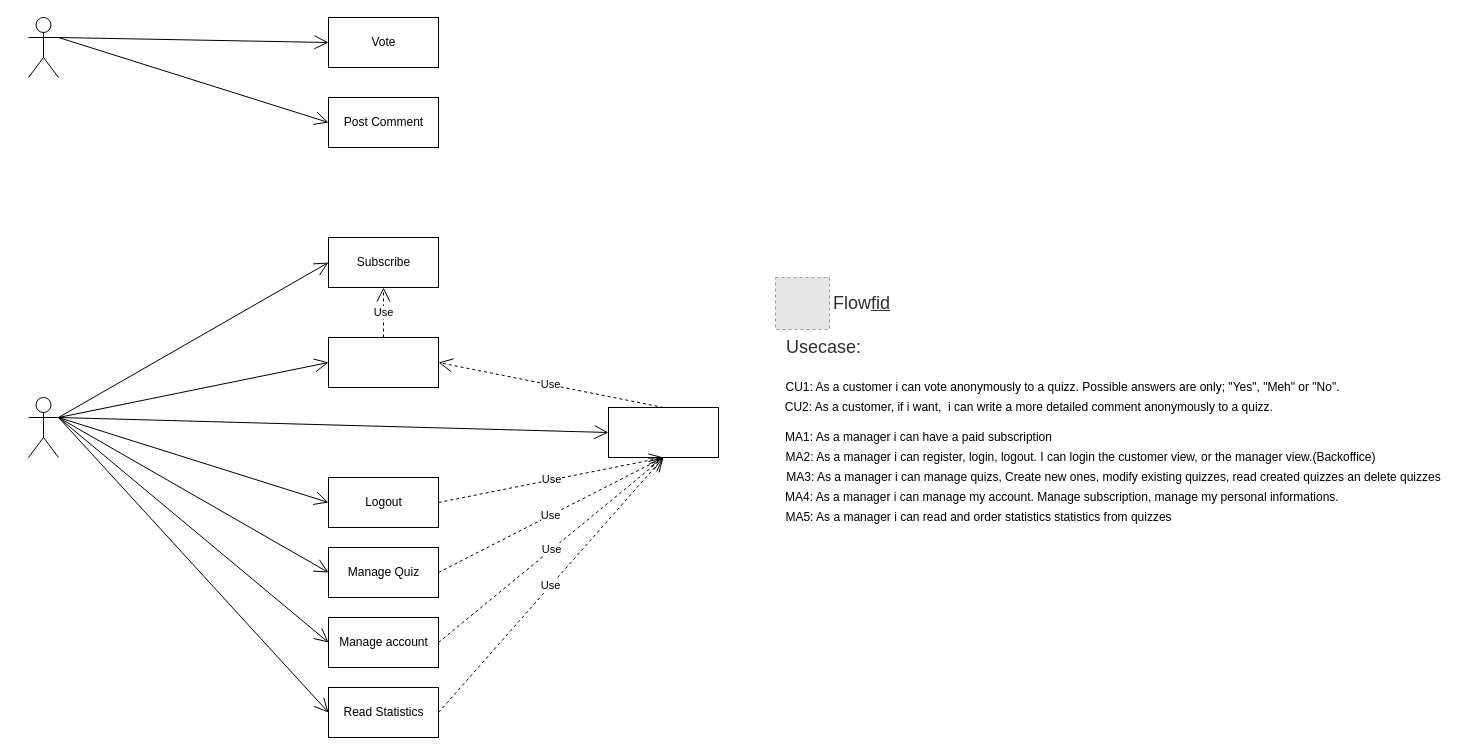
This 1466x755 diagram has some shape labels left out. Grey dashed boxes stand in for pictures. The shapes that lost their labels are listed below. From the top down, each one's centre as x and y in pixels, then its label:
point (43, 47): Customer
point (383, 362): Register
point (43, 427): Manager
point (663, 432): Login
